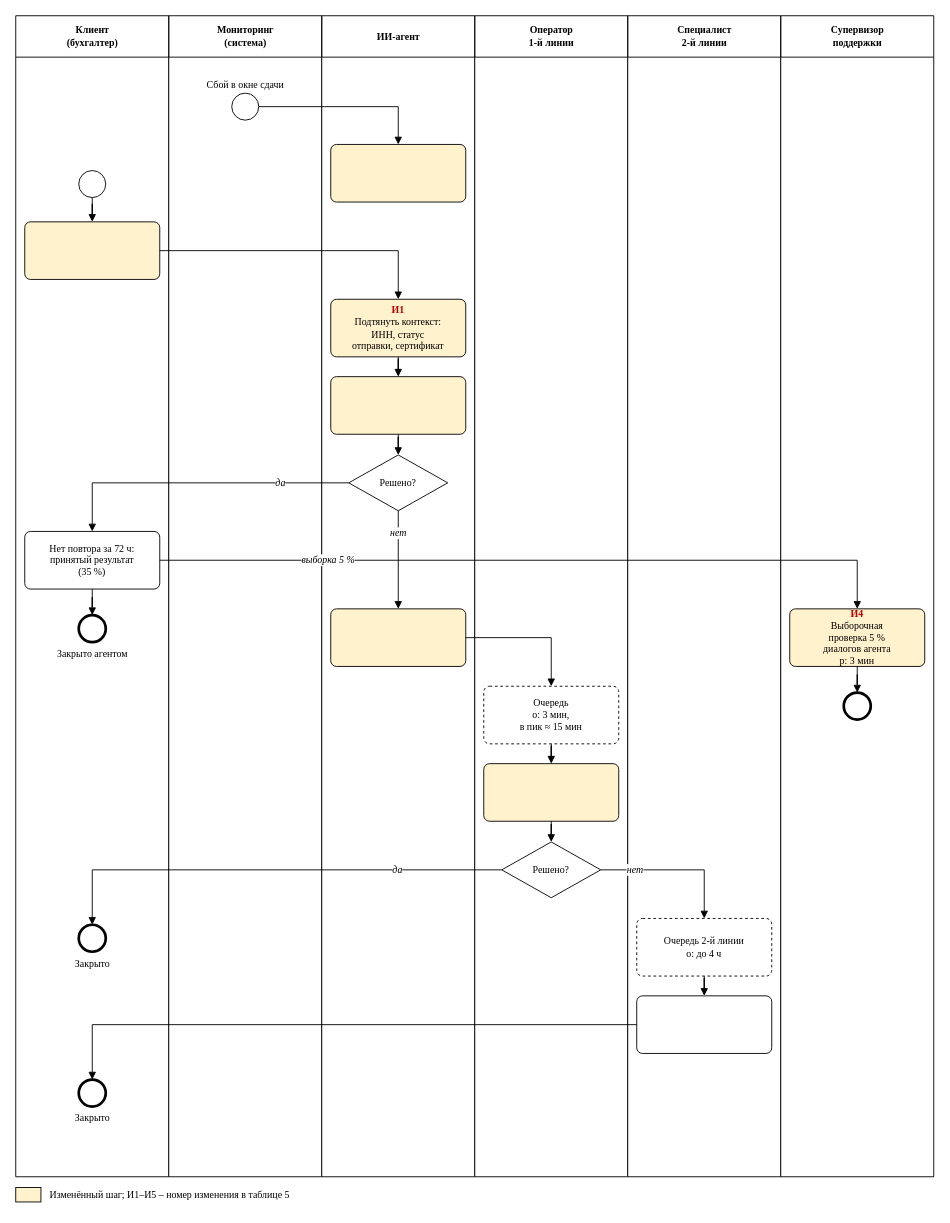
The diagram is 950 pixels wide and 1223 high, and some of its shapes have lost their labels. The shapes that lost their labels are listed below. From the top down, each one's centre as x and y in pixels, then its label:
At point 92,184: "Вопрос по Экстерну".
At point 398,173: "И5 Уведомить затронутых клиентов о статусе р: 0 (автоматически)".
At point 92,250: "И1 Обратиться: чат, звонок, кнопка в Экстерне р: 1 мин".
At point 398,405: "И2 Ответить по 20 типовым темам р: 1,5 мин".
At point 398,637: "И3 Резюме диалога и передача оператору".
At point 857,705: "Правки в базу знаний".
At point 551,792: "И3 Проверить резюме р: 0,5 мин; диагностика и ответ р: 12 мин".
At point 704,1024: "Решить и ответить р: 20 мин".
